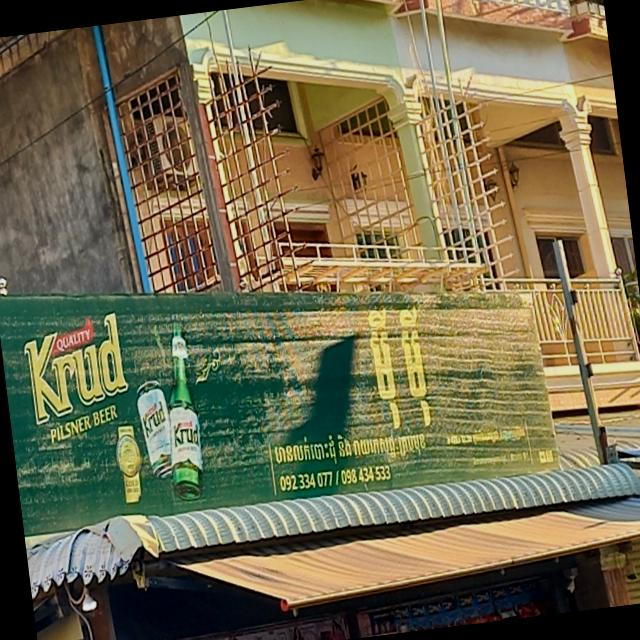2: (269, 428, 430, 467)
434: (274, 461, 397, 495)
Yolov11_80vkh: (363, 305, 438, 429)
